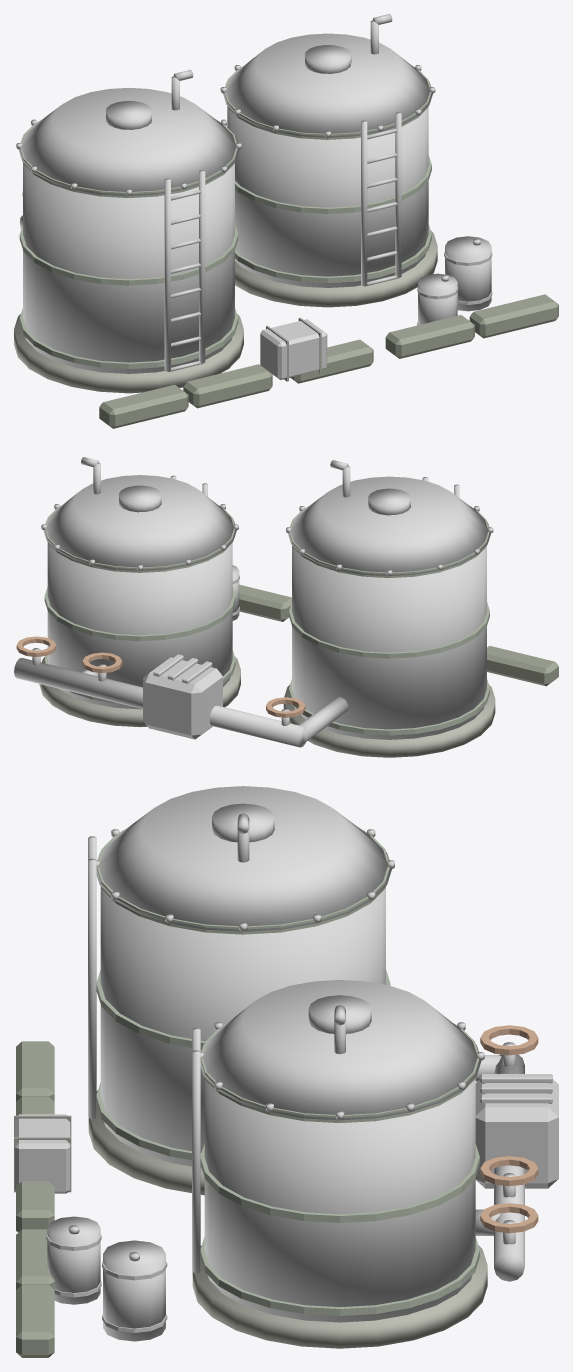
Rendered from fuel.glb.
3 views of the same model, one above another, from view 1: azimuth 30°, elevation 25°; view 2: azimuth 150°, elevation 25°; view 3: azimuth 270°, elevation 25° (orthographic). The views are drawn at different scales.
Visible parts, largest first — view 1: Hull; view 2: Hull, Turret; view 3: Hull, Turret.
Boxes of the visible parts, box(x1,y1,x2,y2) form: Hull: box(14, 14, 558, 428); Hull: box(14, 457, 558, 757); Turret: box(143, 654, 222, 739); Hull: box(14, 786, 538, 1357); Turret: box(475, 1074, 558, 1188).
Bounding box in the file's own units: 2.89 × 1.59 × 2.25.
